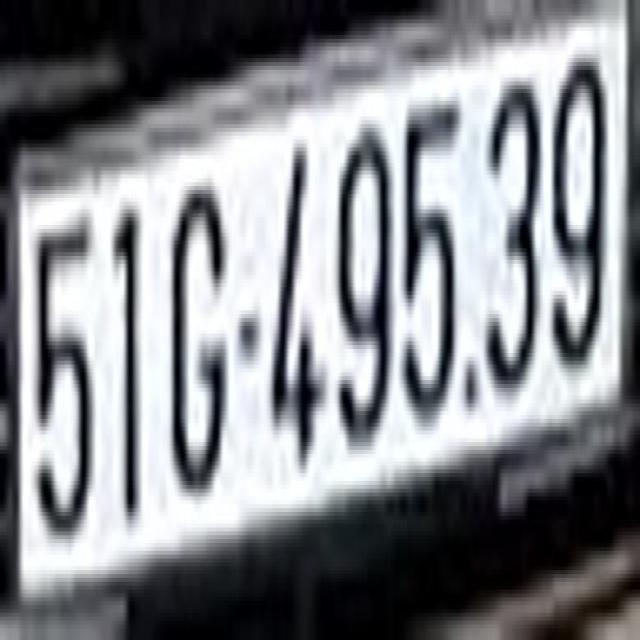1: (108, 198, 140, 516)
3: (484, 58, 536, 400)
4: (272, 124, 322, 473)
5: (402, 89, 460, 419), (35, 213, 93, 539)
9: (548, 54, 608, 377), (334, 120, 387, 450)
G: (167, 178, 226, 496)
